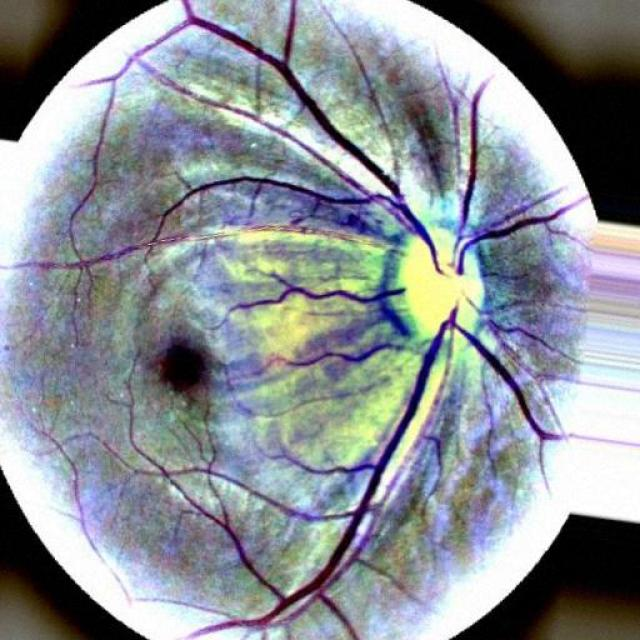Macula: (153, 325, 220, 413)
Nerves: (179, 21, 483, 630)
Optic Disk: (350, 188, 512, 384)
